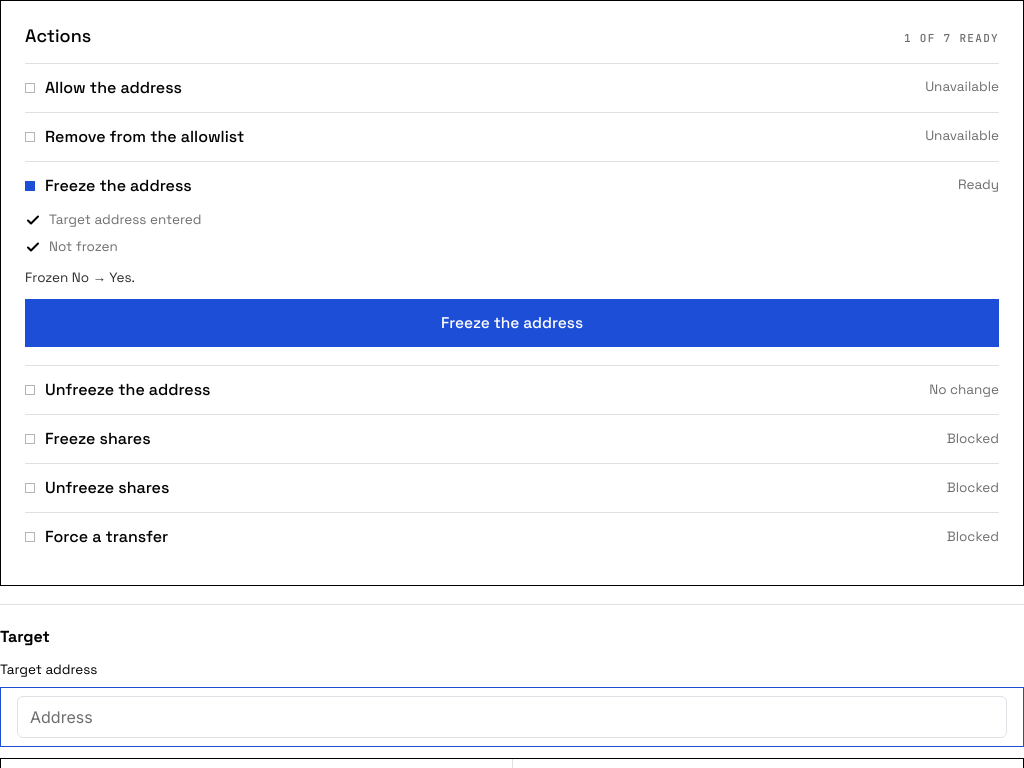
ComplianceSection › tells the compliance role why the allowlist is unavailable
In the field labelled "Target address": (512, 716) [17,696,1007,738], type "GDPO5SQDJY4E2XEE47MAOT2M2F3GR4H2AYYKSMIOT2YPOHAMC36VKWIA"
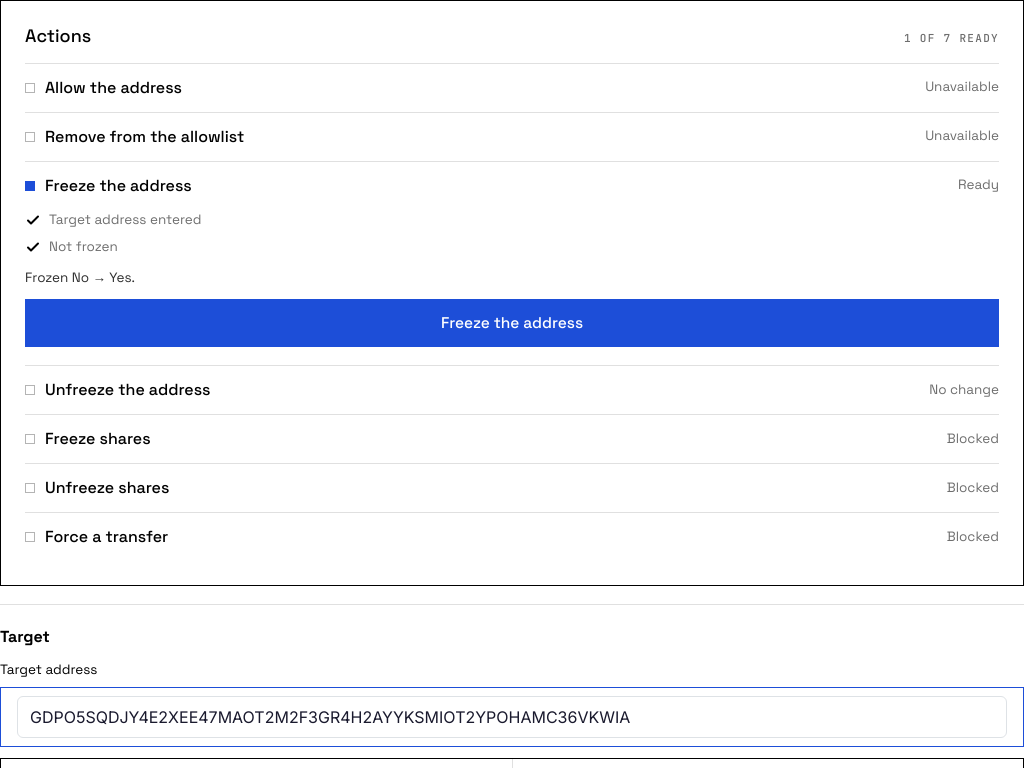
Click the button "Allow the address Unavailable": (114, 87) [25,64,999,112]
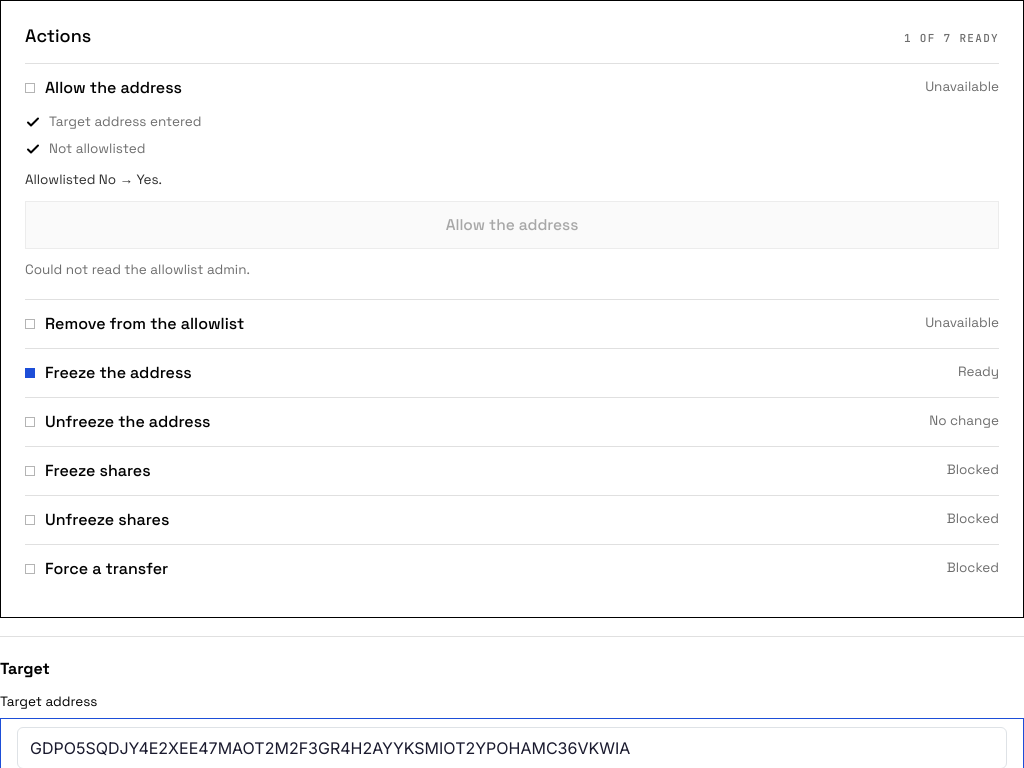
Expected: the button "Allow the address" is disabled, [25,201,999,249]
Expected: the text "Could not read the allowlist admin." is shown, [25,261,250,278]
